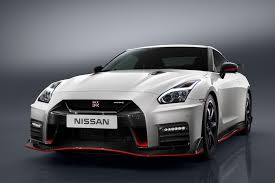Nissan: (33, 49, 244, 152)
